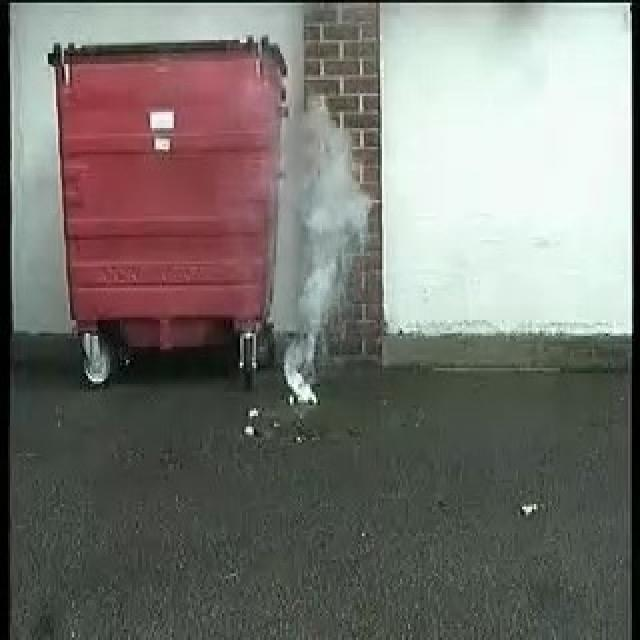smoke: (285, 104, 369, 399)
